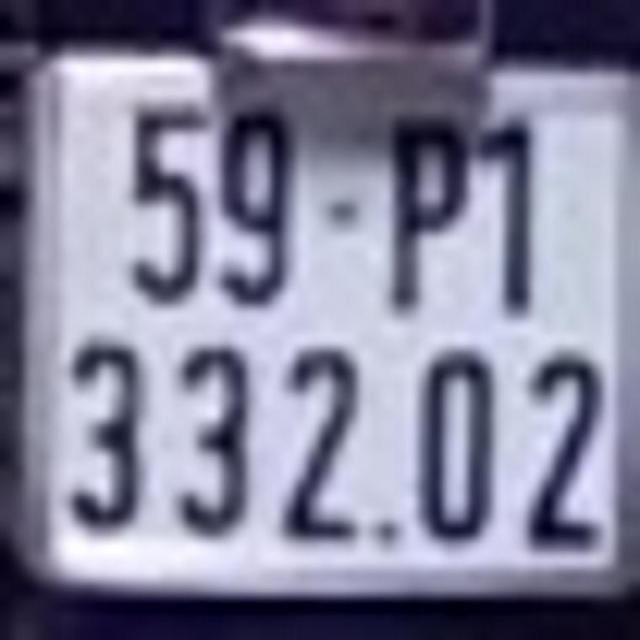0: (412, 338, 496, 544)
1: (476, 110, 544, 308)
2: (521, 352, 608, 554), (278, 356, 362, 544)
3: (68, 337, 144, 537), (177, 341, 250, 538)
5: (120, 104, 204, 305)
9: (210, 104, 294, 308)
P: (383, 114, 468, 319)
